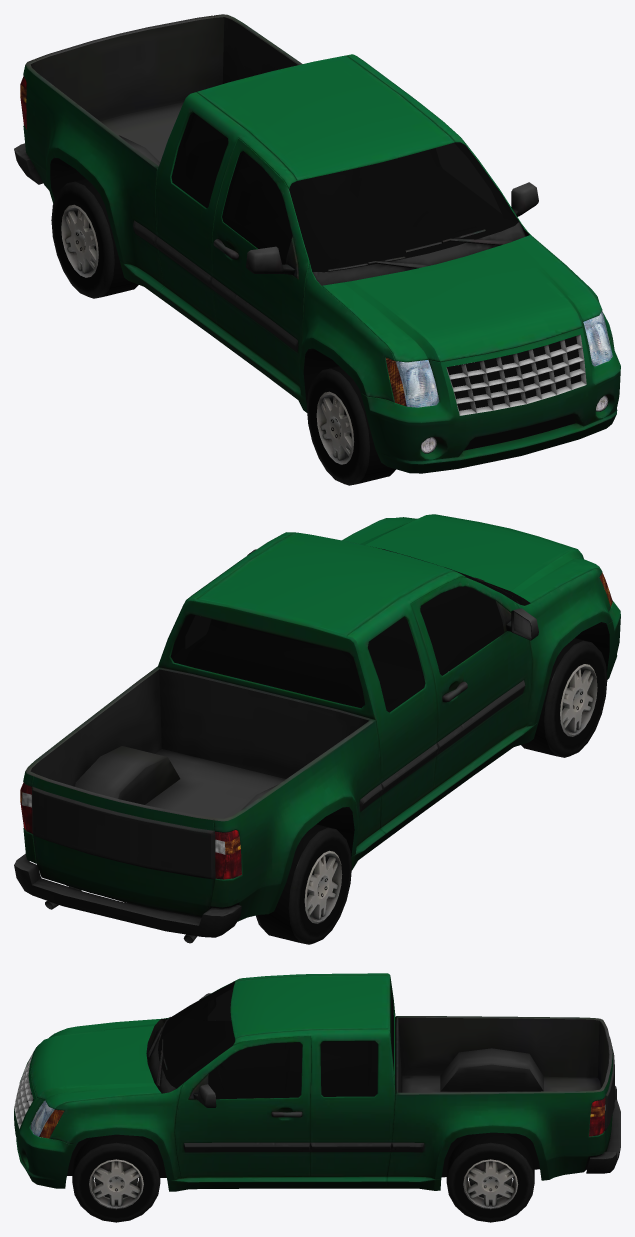
The model's file is pack_pickup.glb.
The picture shows the model from 3 angles, top to bottom: view 1: azimuth 30°, elevation 25°; view 2: azimuth 150°, elevation 25°; view 3: azimuth 270°, elevation 25°; orthographic projection. The views are drawn at different scales.
Visible parts, largest first — view 1: Pickup Body_Body_0, Pickup Body_Glass_0, Wheel_E002_Wheel_0, Wheel_E003_Wheel_0, Pickup Body_Optics_0; view 2: Pickup Body_Body_0, Pickup Body_Glass_0, Wheel_E003_Wheel_0, Wheel_E002_Wheel_0, Pickup Body_Optics_0; view 3: Pickup Body_Body_0, Pickup Body_Glass_0, Wheel_E001_Wheel_0, Wheel_E_Wheel_0, Pickup Body_Optics_0.
Boxes of the visible parts, x1,y1,x2,y2 form: Pickup Body_Body_0: (14,14,620,473); Pickup Body_Glass_0: (171,112,519,271); Wheel_E002_Wheel_0: (306,366,395,485); Wheel_E003_Wheel_0: (51,178,138,298); Pickup Body_Optics_0: (20,76,612,453); Pickup Body_Body_0: (14,514,620,943); Pickup Body_Glass_0: (170,547,518,712); Wheel_E003_Wheel_0: (256,824,351,944); Wheel_E002_Wheel_0: (521,638,607,757); Pickup Body_Optics_0: (20,572,612,879); Pickup Body_Body_0: (14,973,620,1191); Pickup Body_Glass_0: (158,981,393,1099); Wheel_E001_Wheel_0: (446,1132,534,1222); Wheel_E_Wheel_0: (72,1134,160,1222); Pickup Body_Optics_0: (30,1097,605,1138).
Size of the model in its own units: 2.07 by 1.7 by 5.18.
Materials: 4 (3 with a texture image).
